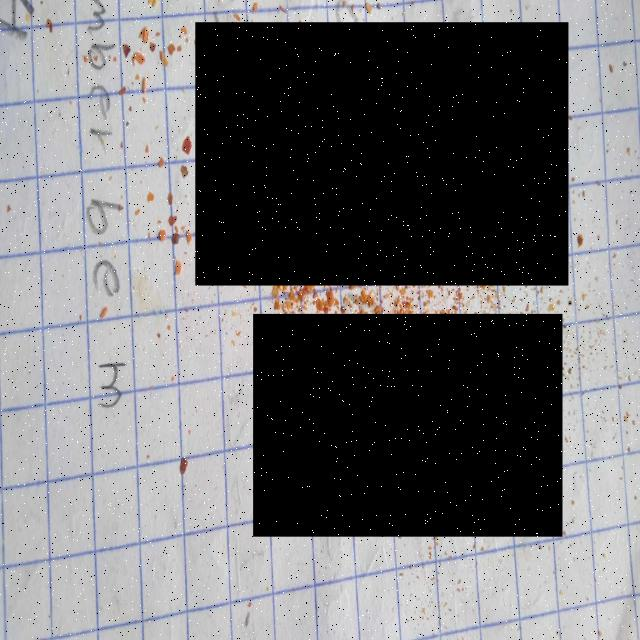Chili_Powder: (196, 22, 568, 286), (253, 314, 563, 537)
